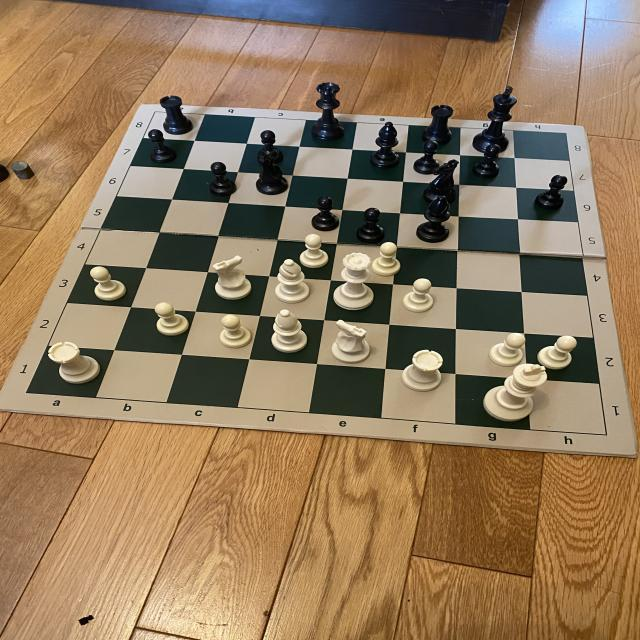chess-table-corners: (22, 387, 36, 399), (600, 431, 614, 438), (561, 131, 573, 137), (150, 108, 160, 114)
